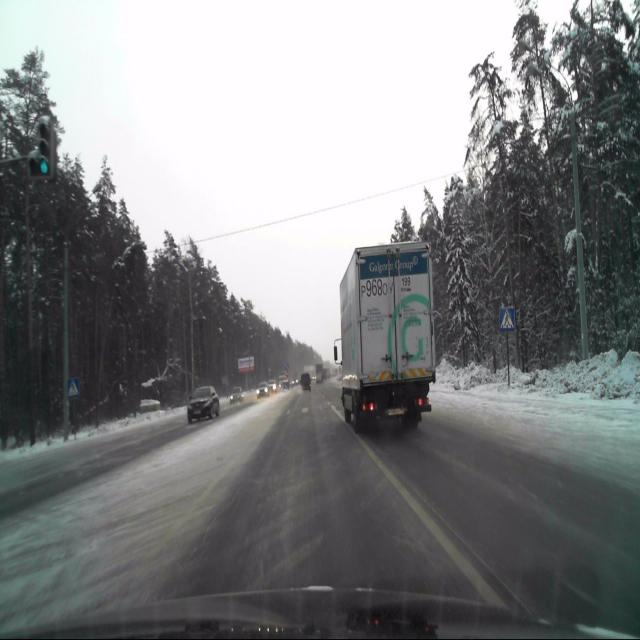road sign: (498, 306, 514, 333)
